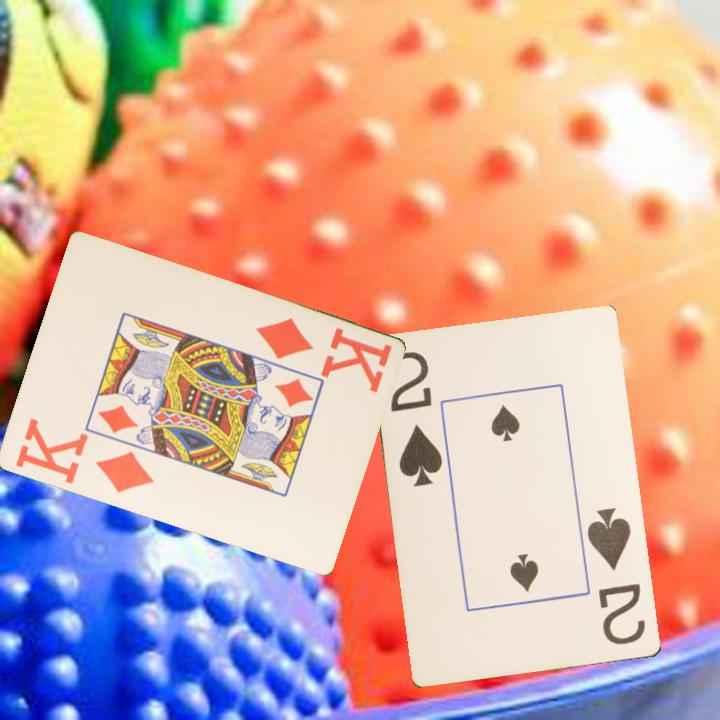2s: (584, 505, 649, 649), (383, 348, 446, 490)
Kd: (11, 414, 156, 497), (251, 314, 395, 395)
